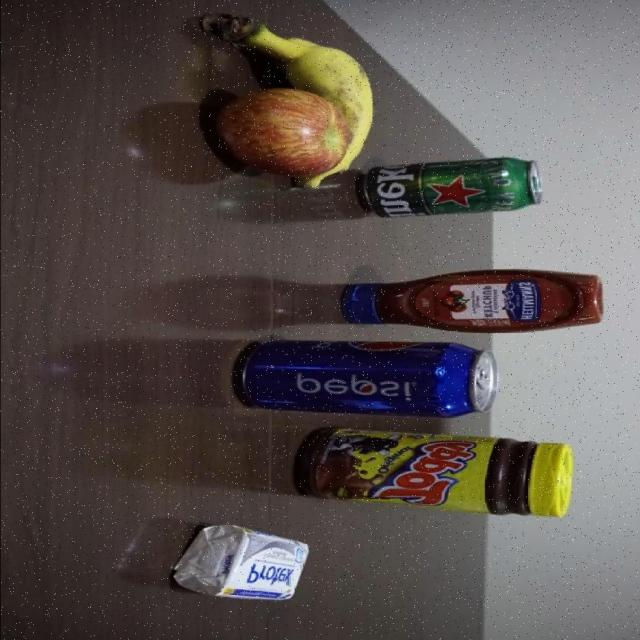Apple: (207, 84, 352, 177)
Banana: (198, 11, 374, 87)
BeerCan: (347, 155, 547, 218)
ChocolatePowder: (294, 424, 575, 519)
Ketchup: (334, 267, 606, 333)
Soap: (168, 520, 310, 602)
SodaCan: (232, 333, 500, 419)
